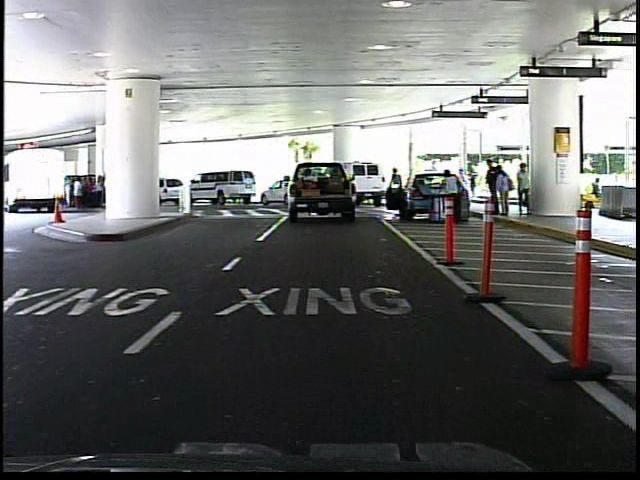person: (438, 163, 463, 224), (511, 159, 533, 216), (388, 165, 406, 210)
